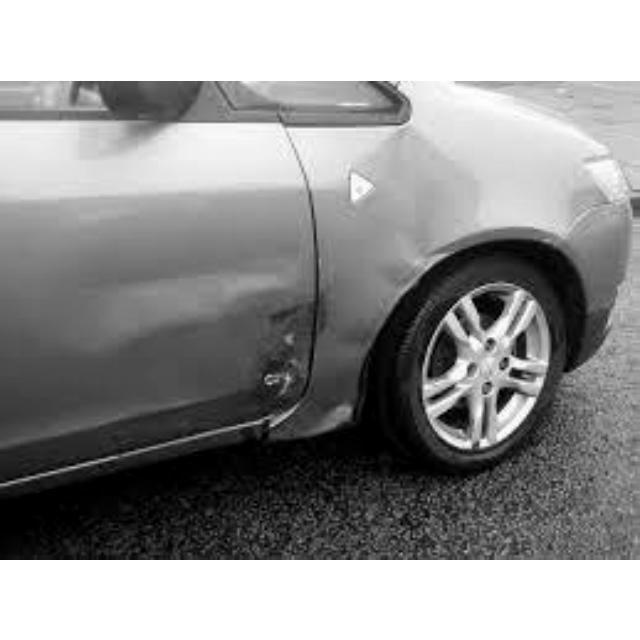doorouter-dent: (102, 140, 321, 411)
fender-dent: (295, 107, 544, 255)
